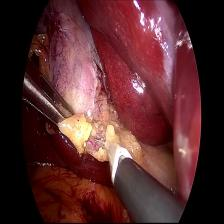Grasper: (22, 61, 80, 144)
Hook: (93, 135, 134, 181)
